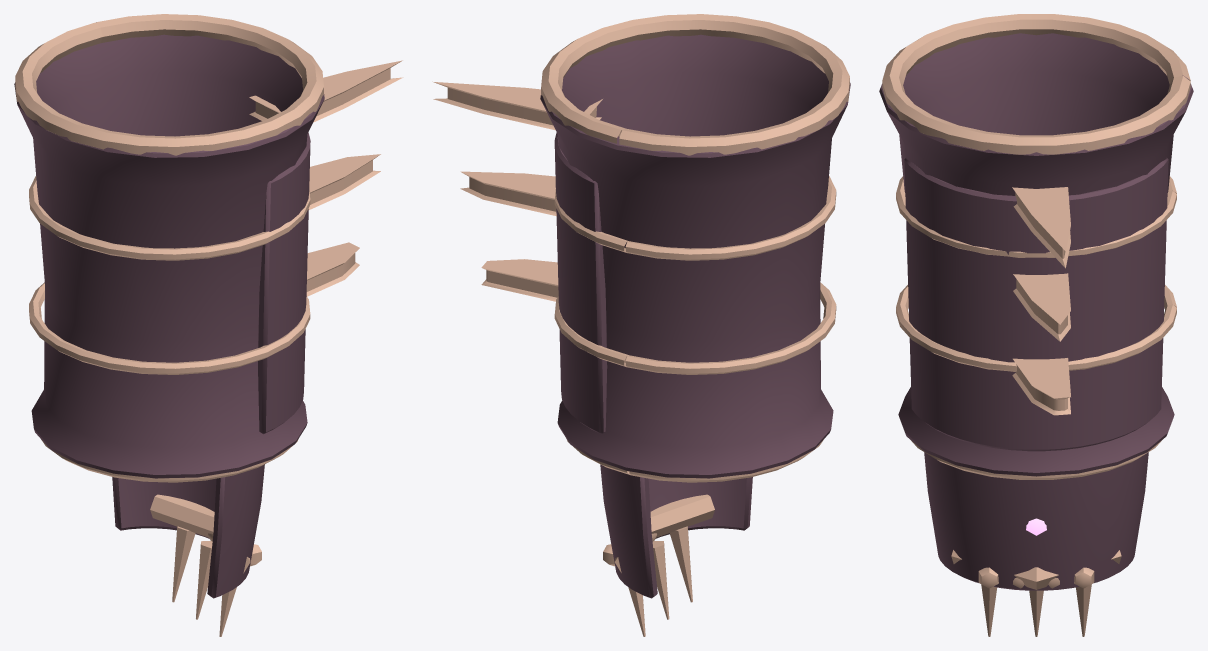
Rendered from asc_aeonbreaker_gloves.glb.
The picture shows the model from 3 angles, left to right: view 1: azimuth 30°, elevation 25°; view 2: azimuth 150°, elevation 25°; view 3: azimuth 270°, elevation 25°; orthographic projection.
Visible parts, largest first — view 1: asc_aeonbreaker_gloves, AT_hand_L; view 2: asc_aeonbreaker_gloves, AT_hand_L; view 3: asc_aeonbreaker_gloves, AT_hand_L.
Part boxes in pixels (box(x1,y1,x2,y2)): asc_aeonbreaker_gloves: box(14, 14, 403, 482); AT_hand_L: box(112, 464, 264, 636); asc_aeonbreaker_gloves: box(432, 14, 850, 482); AT_hand_L: box(600, 464, 752, 636); asc_aeonbreaker_gloves: box(879, 14, 1193, 479); AT_hand_L: box(924, 452, 1148, 636).
Size of the model in its own units: 0.2808 by 0.385 by 0.2004.
